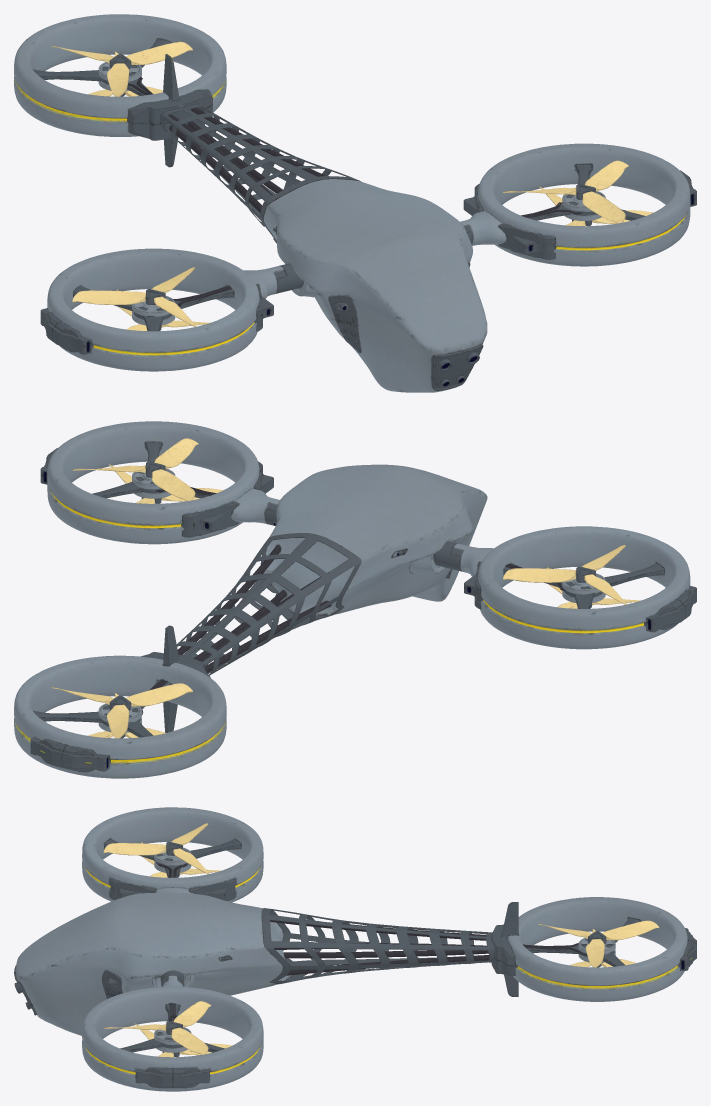
Rendered from drone_compressed.glb.
3 renders of one model, top to bottom at view 1: azimuth 30°, elevation 25°; view 2: azimuth 150°, elevation 25°; view 3: azimuth 270°, elevation 25°, orthographic. The views are drawn at different scales.
Visible parts, largest first — view 1: Sci-Fi Surveillance Drone; view 2: Sci-Fi Surveillance Drone; view 3: Sci-Fi Surveillance Drone.
Boxes of the visible parts, x1,y1,x2,y2 form: Sci-Fi Surveillance Drone: (14, 14, 696, 392); Sci-Fi Surveillance Drone: (14, 421, 696, 778); Sci-Fi Surveillance Drone: (14, 807, 696, 1091).
Size of the model in its own units: 11.76 by 2.64 by 12.88.
Materials: 1 (1 with a texture image).
